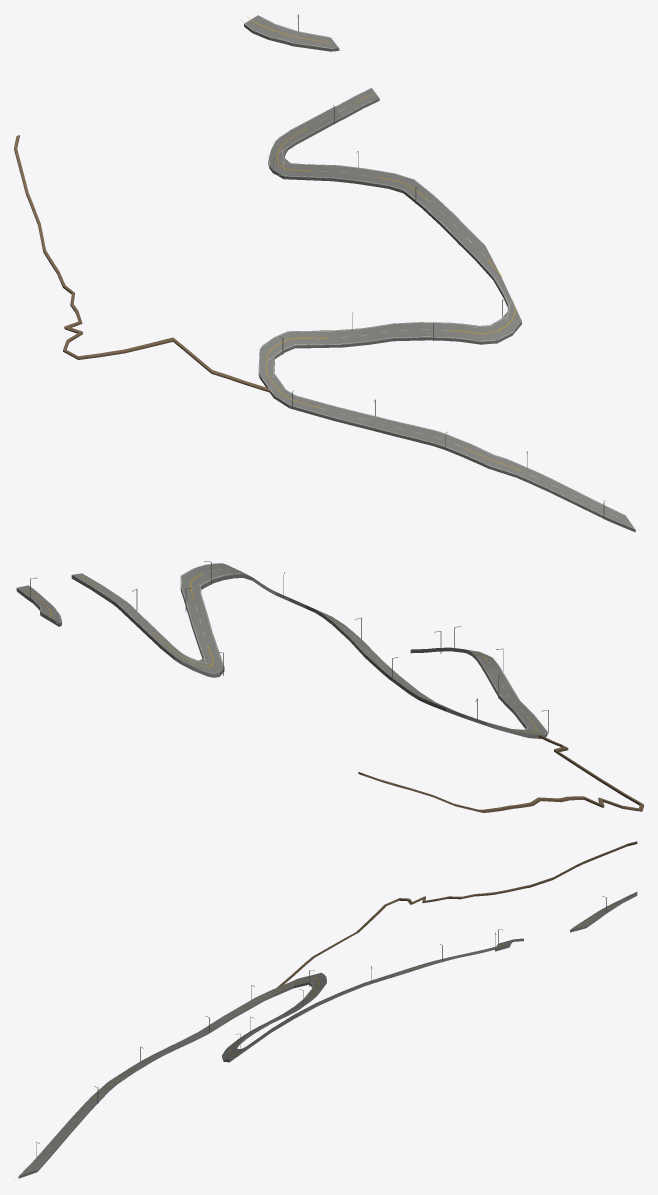
3 views of the same model, one above another, from view 1: azimuth 30°, elevation 25°; view 2: azimuth 150°, elevation 25°; view 3: azimuth 270°, elevation 25° (orthographic). The views are drawn at different scales.
Bounding box in the file's own units: 171 × 127 × 268.
